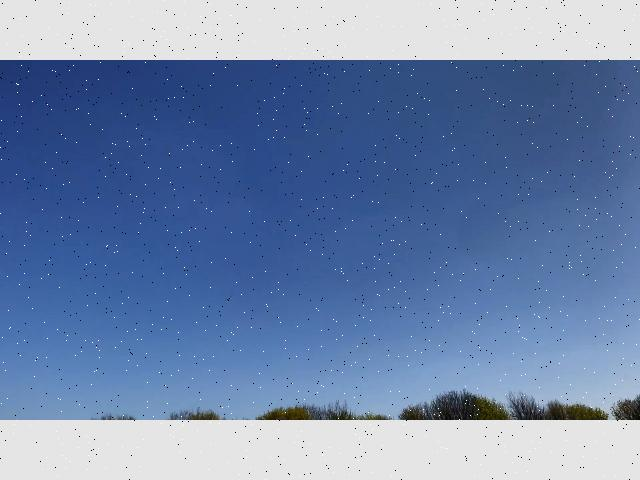Anti-Drone: (216, 289, 242, 310)
